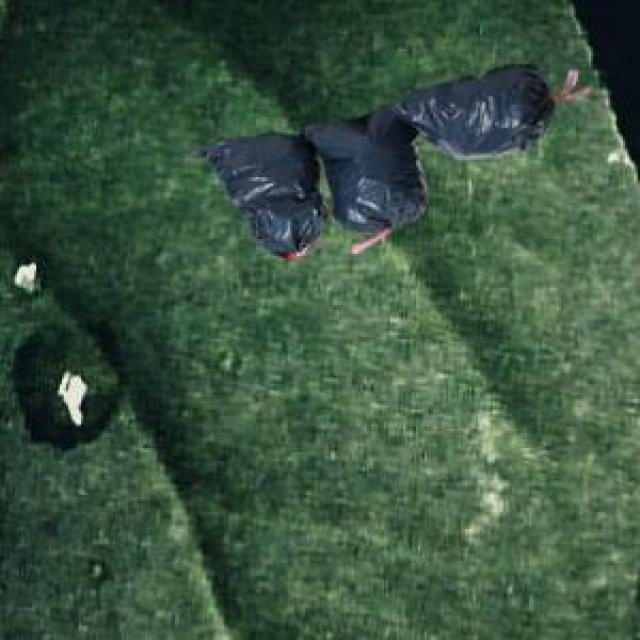miscellaneous trash: (190, 60, 550, 254)
